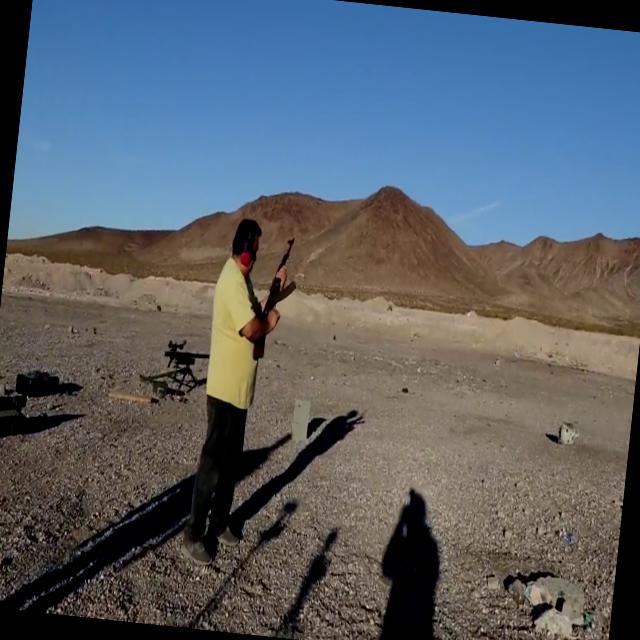long weapon: (244, 222, 312, 388), (147, 326, 211, 394)
